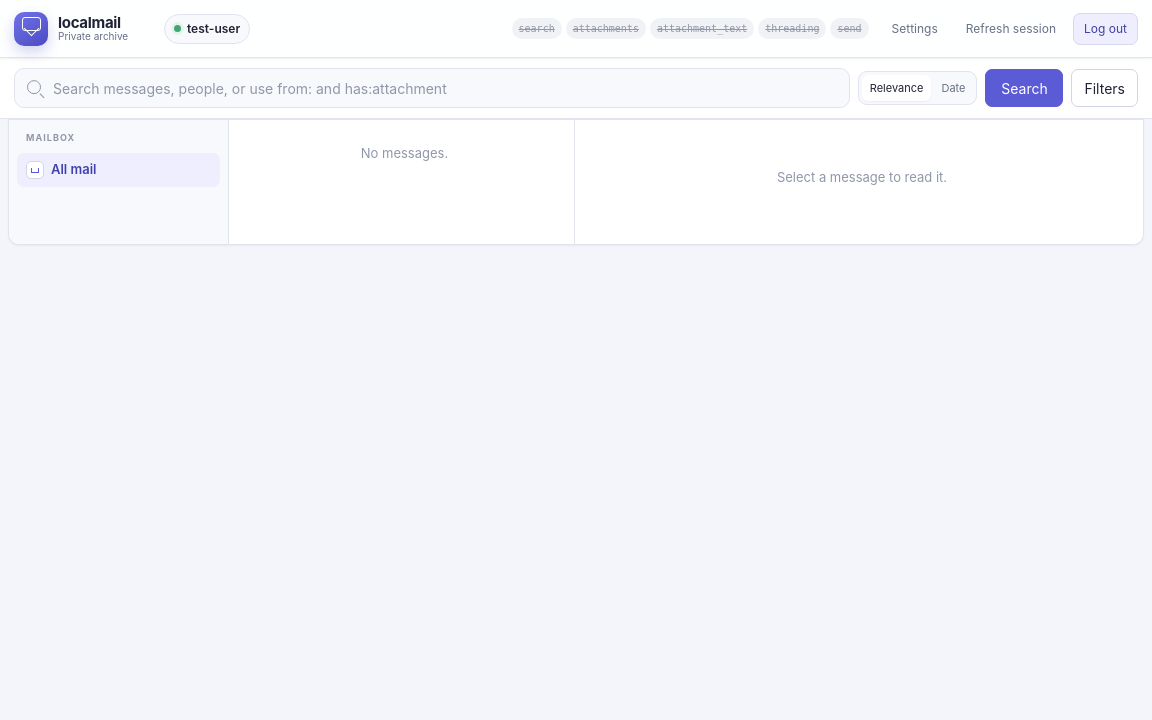
MainView › Settings button opens the SettingsScreen overlay and × closes it
The width and height of the screenshot is (1152, 720).
Click the button with test id "open-settings" at (915, 28), box [880,12,949,44]
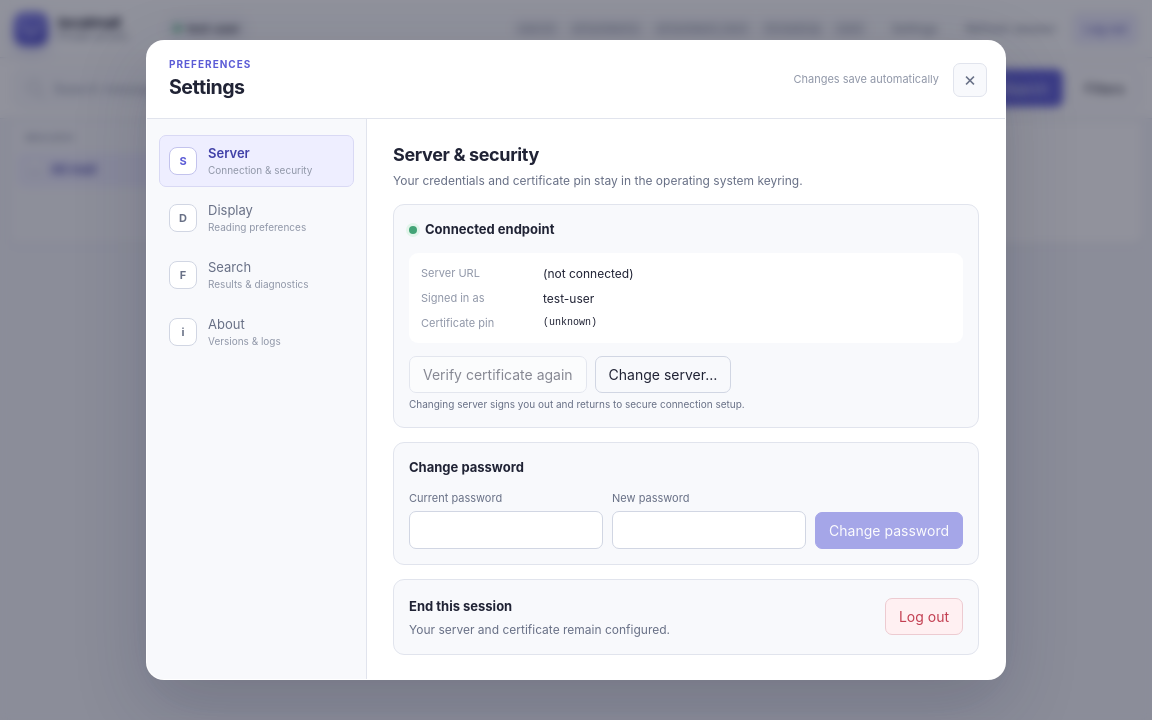
expect the dialog is shown: met
Click the button named "close" at (970, 80), box [953,62,987,96]
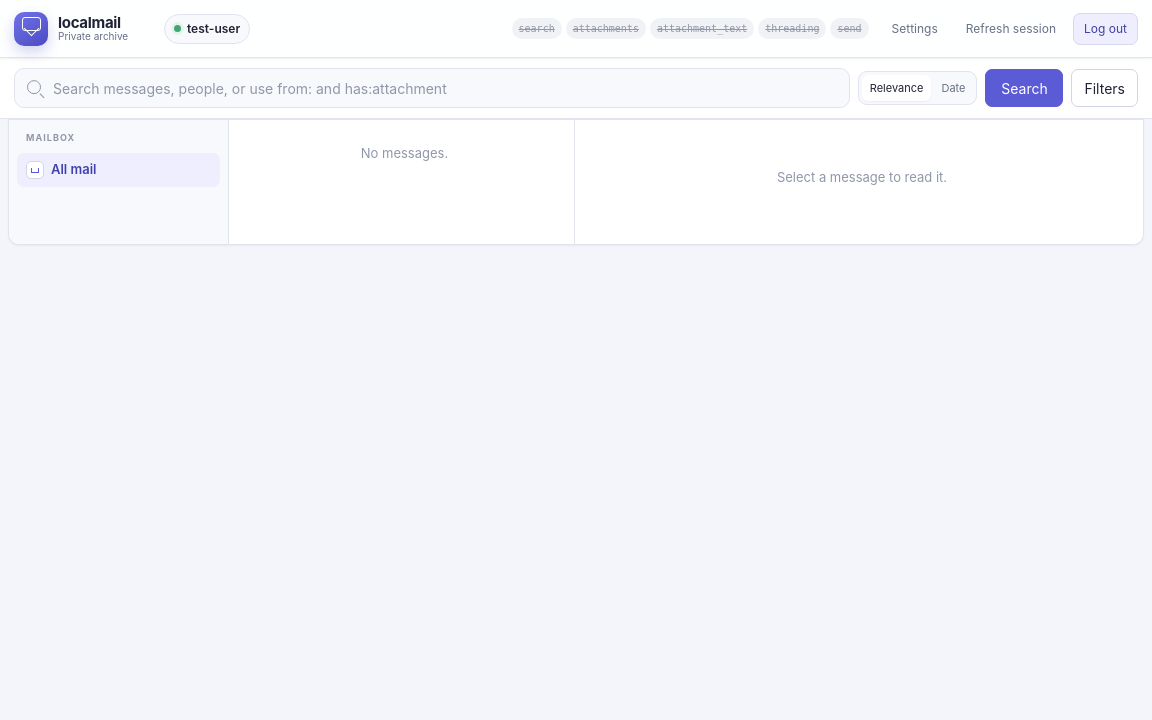
expect the dialog is gone: met
